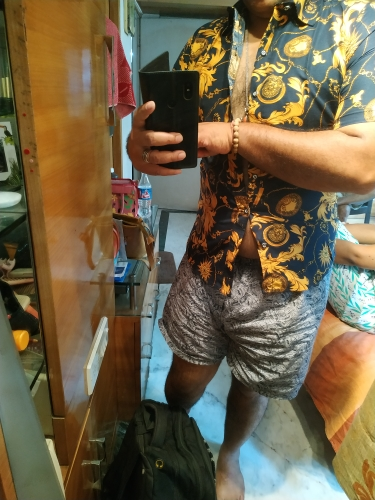shirts: (164, 5, 375, 294)
